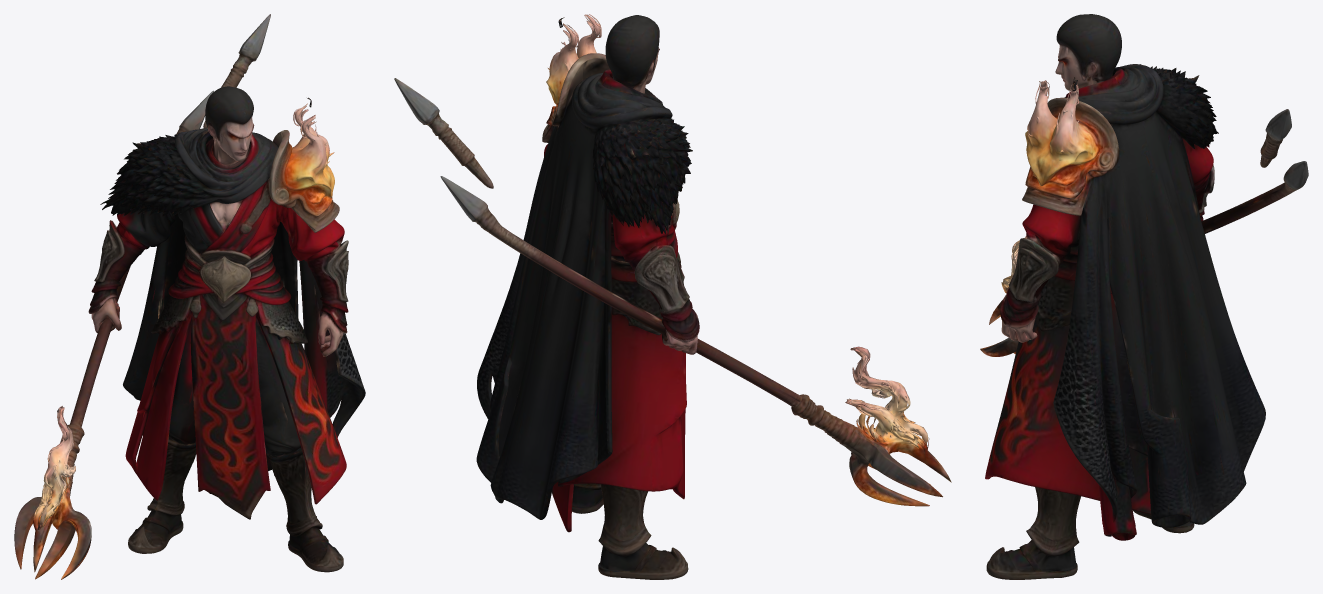
Rendered from np_ash.glb.
The picture shows the model from 3 angles, left to right: view 1: azimuth 30°, elevation 25°; view 2: azimuth 150°, elevation 25°; view 3: azimuth 270°, elevation 25°; orthographic projection. The views are drawn at different scales.
Visible parts, largest first — view 1: node_0; view 2: node_0; view 3: node_0.
Part boxes in pixels (x1,y1,x2,y2): node_0: [14, 14, 365, 579]; node_0: [394, 14, 951, 579]; node_0: [980, 14, 1308, 579].
Bounding box in the file's own units: 0.7753 × 0.9049 × 0.5149.
1 material, 1 textured.
